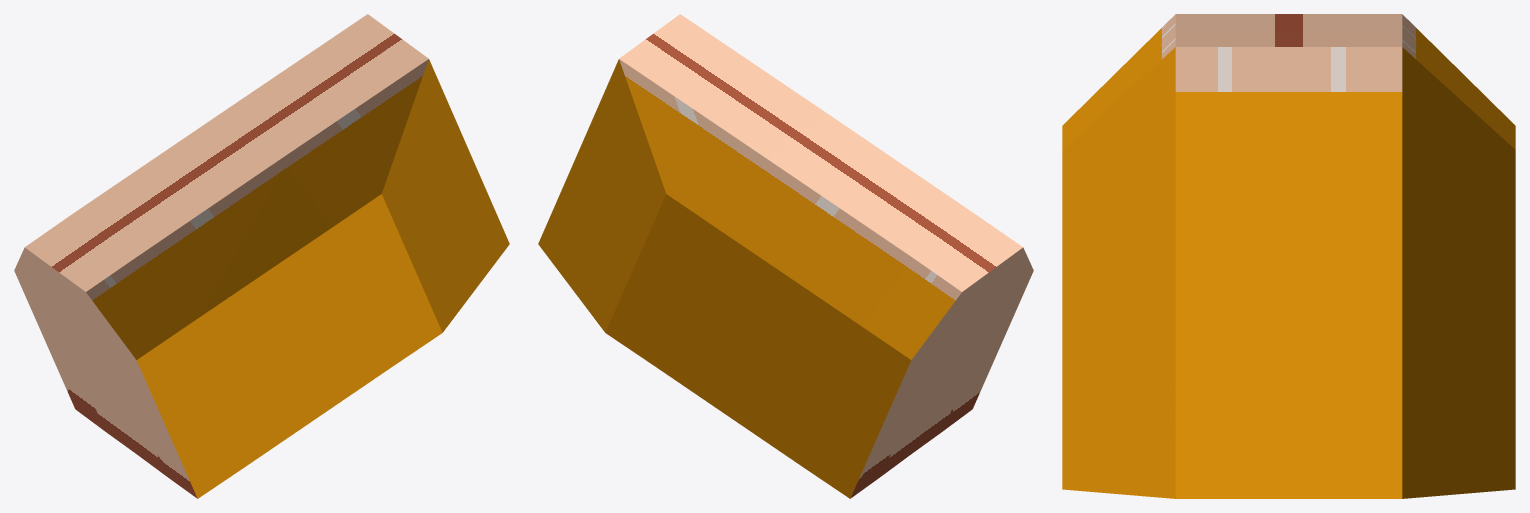
File: half-loaf.gltf
3 views of the same model, side by side, from view 1: azimuth 30°, elevation 25°; view 2: azimuth 150°, elevation 25°; view 3: azimuth 270°, elevation 25° (orthographic). The views are drawn at different scales.
Parts seen in each view (by area): view 1: loaf_halfed; view 2: loaf_halfed; view 3: loaf_halfed.
Boxes of the visible parts, box(x1,y1,x2,y2) form: loaf_halfed: box(14, 14, 509, 498); loaf_halfed: box(538, 14, 1033, 498); loaf_halfed: box(1062, 14, 1515, 498).
Size of the model in its own units: 2 by 1.6 by 1.
Materials: 1 (1 with a texture image).
